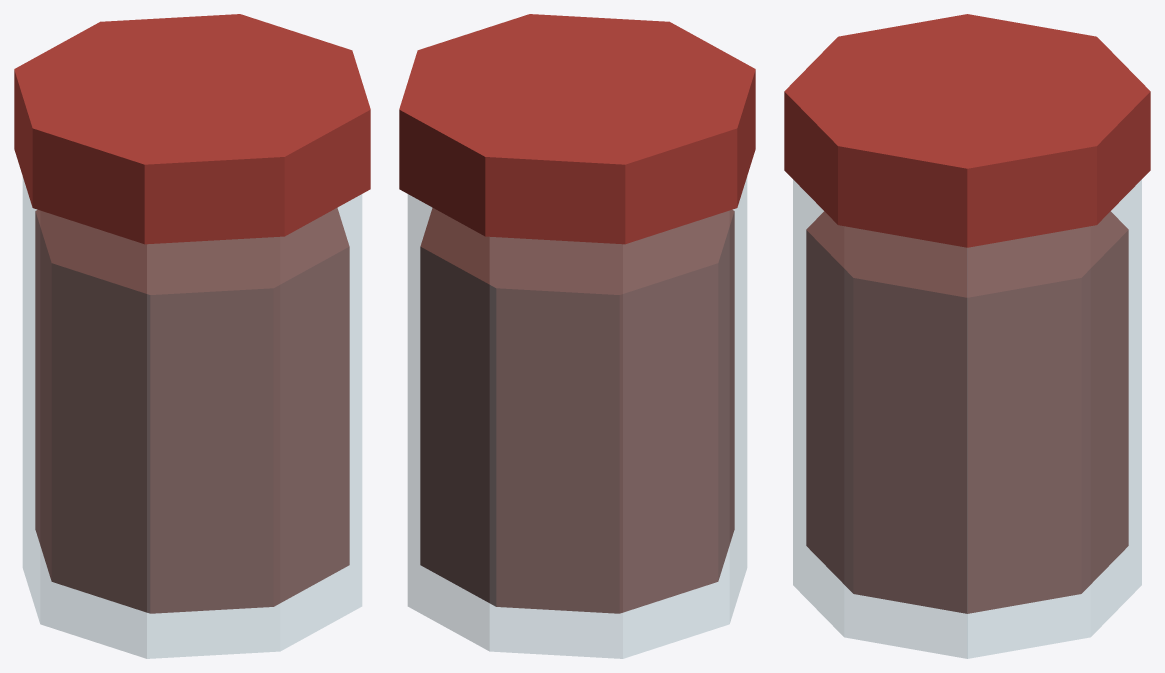
The model's file is FD_Jar_Jam_01.glb.
3 renders of one model, left to right at view 1: azimuth 30°, elevation 25°; view 2: azimuth 150°, elevation 25°; view 3: azimuth 270°, elevation 25°, orthographic.
Parts seen in each view (by area): view 1: FD_Jar_Jam_01; view 2: FD_Jar_Jam_01; view 3: FD_Jar_Jam_01.
Part boxes in pixels (<box>): FD_Jar_Jam_01: <box>14,14,370,658</box>; FD_Jar_Jam_01: <box>399,14,755,658</box>; FD_Jar_Jam_01: <box>784,14,1150,658</box>.
Size of the model in its own units: 0.084 by 0.125 by 0.084.
Materials: 2 (2 with a texture image).
